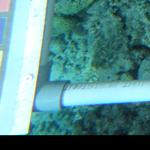dead: (1, 1, 148, 134)
